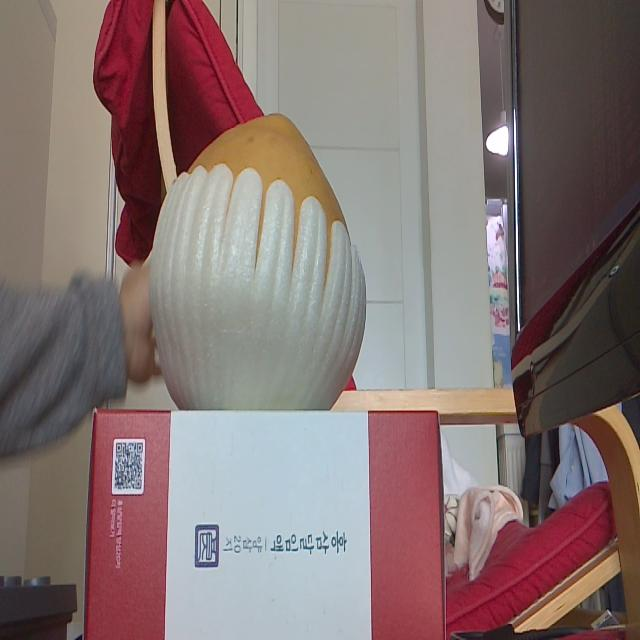pear: (145, 101, 371, 409)
